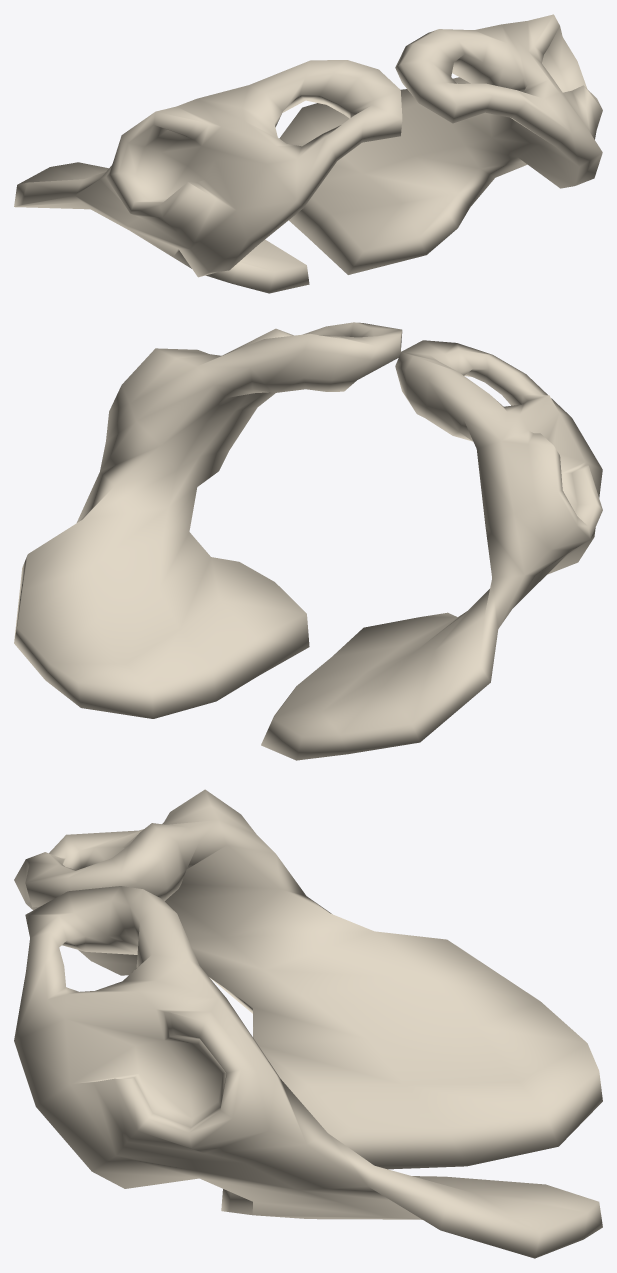
The model's file is HipBone_1.glb.
The picture shows the model from 3 angles, top to bottom: view 1: azimuth 30°, elevation 25°; view 2: azimuth 150°, elevation 25°; view 3: azimuth 270°, elevation 25°; orthographic projection. The views are drawn at different scales.
Parts seen in each view (by area): view 1: HipBone_1; view 2: HipBone_1; view 3: HipBone_1.
Boxes of the visible parts, x1,y1,x2,y2 form: HipBone_1: (14,14,602,293); HipBone_1: (14,322,602,760); HipBone_1: (14,789,602,1258).
Size of the model in its own units: 0.5066 by 0.2775 by 0.4601.
